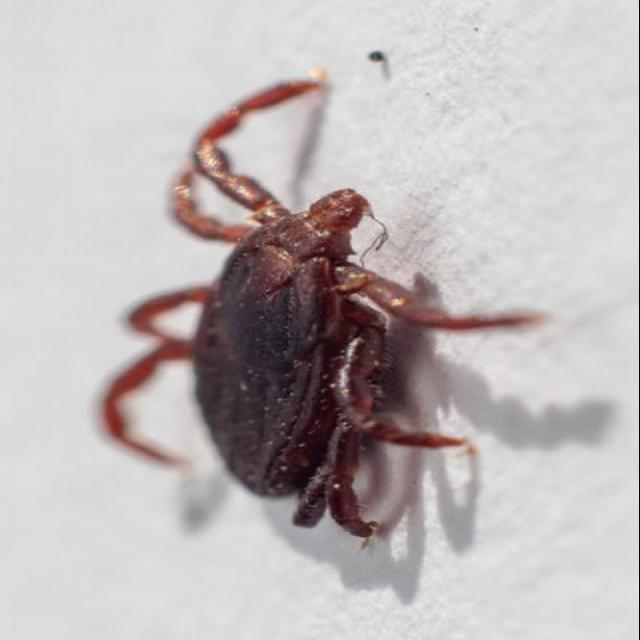Rhipicephalus Sanguineus-F: (99, 78, 543, 543)
